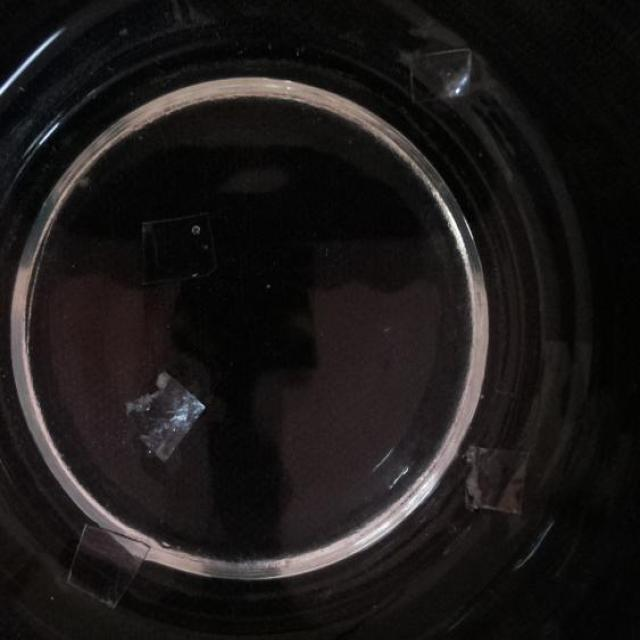fiber: (120, 364, 207, 470), (67, 514, 158, 606), (402, 43, 491, 107), (462, 442, 538, 516), (131, 217, 217, 278)
